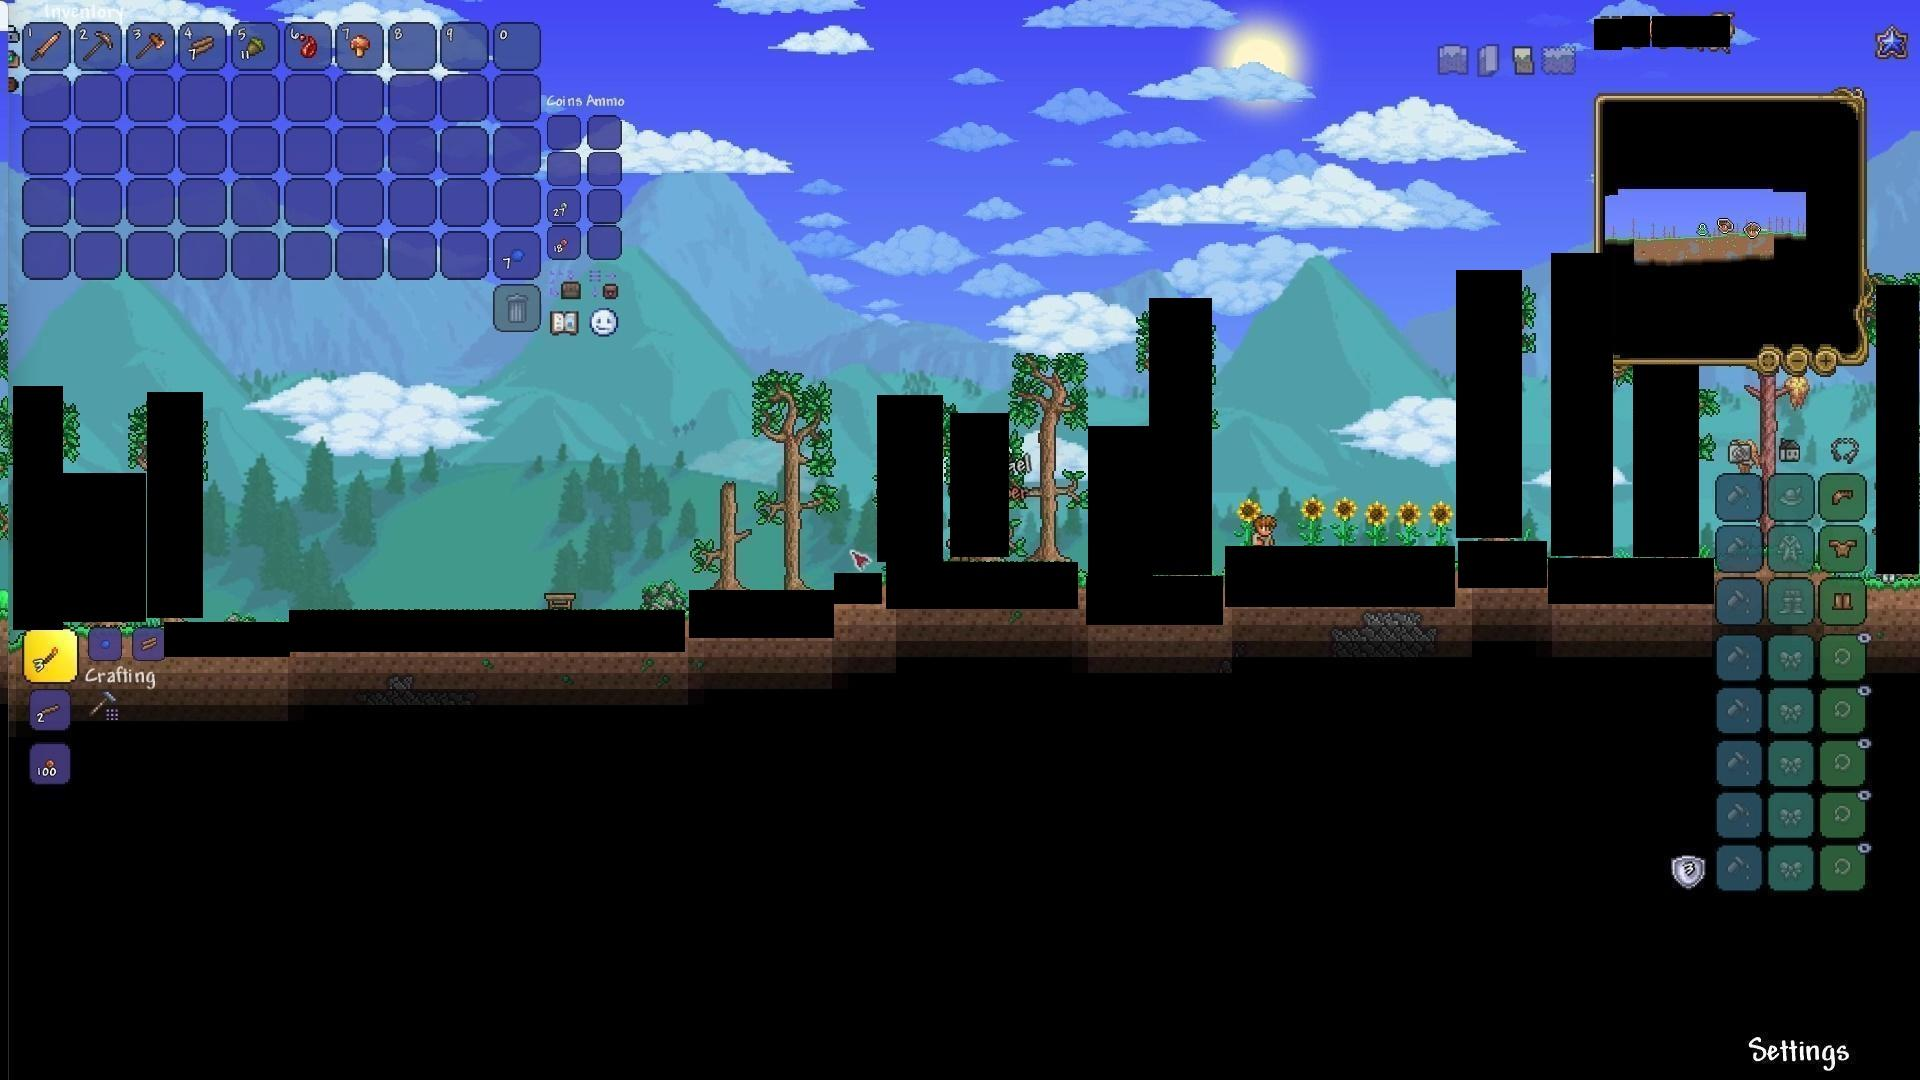breastplate: (1830, 537, 1858, 558)
helmet: (1829, 485, 1857, 509)
legs: (1832, 587, 1858, 616)
tree: (753, 353, 829, 589), (1011, 344, 1083, 560), (694, 472, 756, 588)
wood: (187, 32, 218, 61), (135, 629, 164, 655)
workbench: (543, 592, 580, 617)
